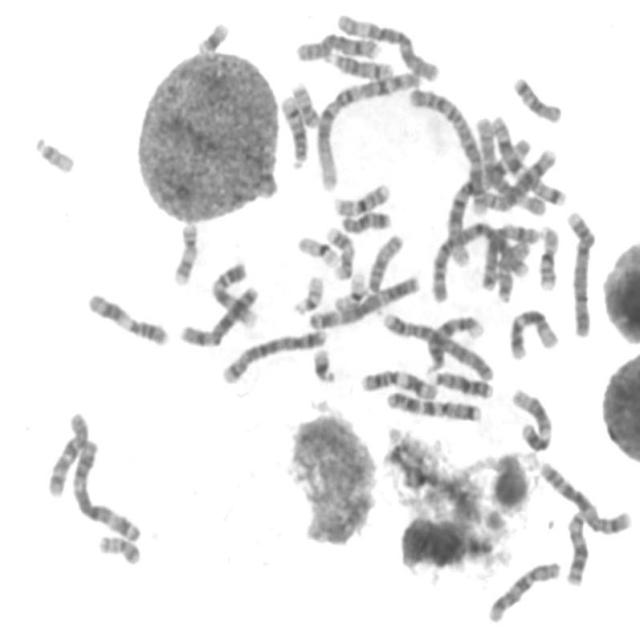A1: (312, 67, 423, 192), (448, 142, 531, 270)
A2: (405, 82, 490, 218), (426, 217, 542, 305)
A3: (66, 436, 144, 544), (304, 268, 422, 330)
B4: (378, 308, 496, 383), (563, 205, 597, 339)
B5: (534, 457, 634, 537), (218, 324, 330, 386)
C10: (483, 557, 563, 625), (43, 406, 91, 499)
C11: (83, 287, 171, 349), (356, 365, 441, 401)
C12: (507, 384, 555, 453), (506, 304, 560, 362)
C6: (332, 7, 442, 83), (474, 114, 548, 216)
C7: (484, 109, 569, 208), (382, 386, 483, 424)
C8: (472, 144, 558, 216), (292, 28, 383, 63)
C9: (422, 311, 485, 375), (207, 258, 260, 329)
D13: (562, 507, 590, 588), (428, 367, 494, 400)
D14: (277, 90, 310, 170), (320, 46, 395, 80)
D15: (492, 230, 536, 305), (363, 229, 405, 296)
E16: (329, 179, 392, 218), (534, 221, 561, 293)
E17: (169, 217, 200, 288), (322, 222, 357, 282)
E18: (509, 72, 564, 125), (337, 208, 392, 235)
F19: (331, 265, 369, 313), (293, 232, 341, 268)
F20: (94, 530, 142, 566), (288, 77, 320, 129)
G21: (193, 16, 230, 56), (308, 343, 338, 385)
G22: (30, 131, 76, 175), (288, 270, 326, 316)
X: (175, 281, 260, 349), (478, 223, 540, 294)
